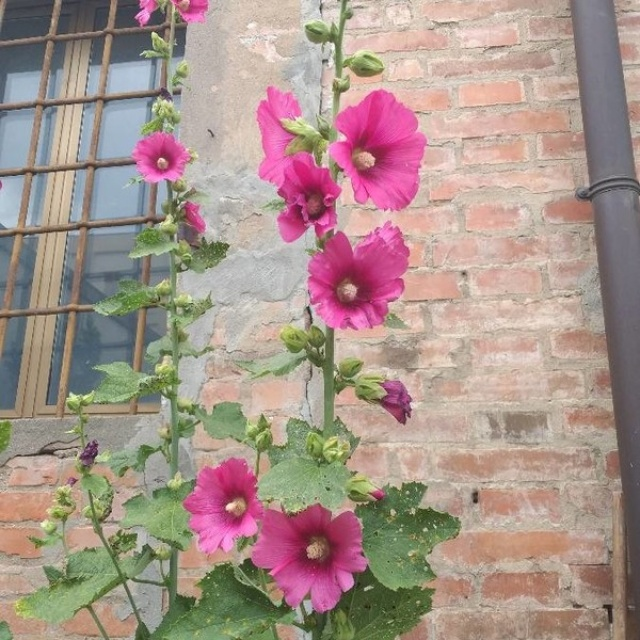obstacle: (220, 9, 455, 622), (71, 6, 221, 606)
